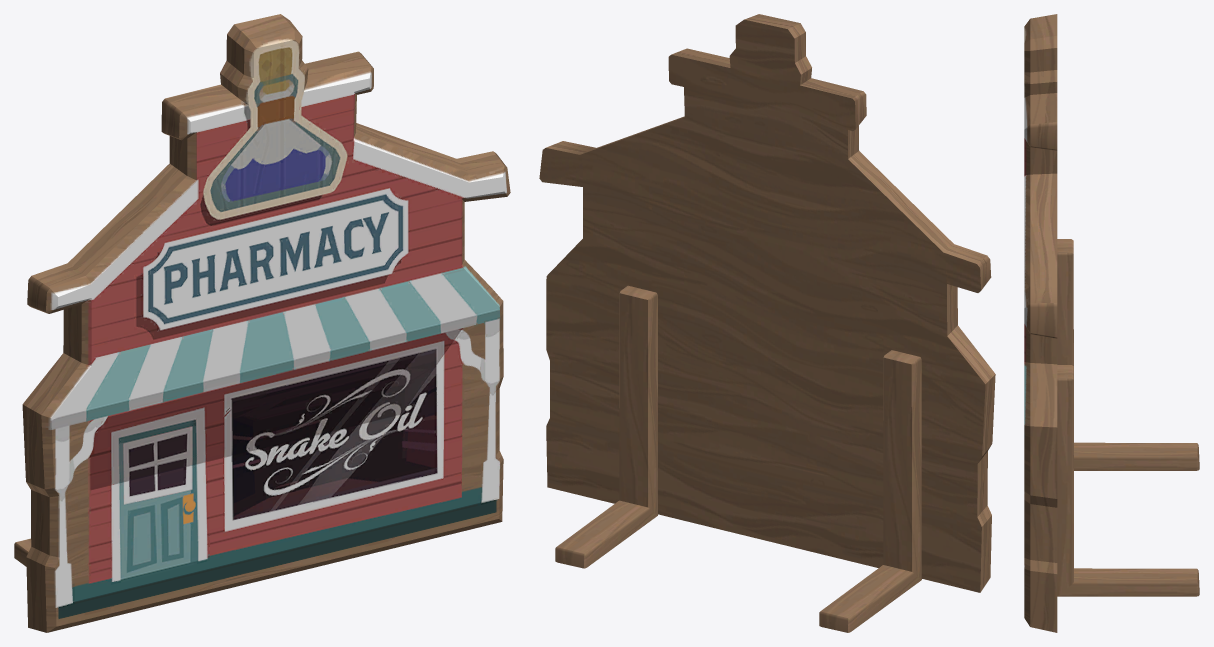
The model's file is pharmacy cutout.glb.
3 renders of one model, left to right at view 1: azimuth 30°, elevation 25°; view 2: azimuth 150°, elevation 25°; view 3: azimuth 270°, elevation 25°, orthographic. The views are drawn at different scales.
Visible parts, largest first — view 1: Standee_Pharmacy_LOD0; view 2: Standee_Pharmacy_LOD0; view 3: Standee_Pharmacy_LOD0.
Part boxes in pixels (bbox=[...]): Standee_Pharmacy_LOD0: bbox=[14, 14, 510, 632]; Standee_Pharmacy_LOD0: bbox=[539, 14, 995, 632]; Standee_Pharmacy_LOD0: bbox=[1024, 14, 1199, 632].
Bounding box in the file's own units: 3.38 × 3.76 × 1.18.
Materials: 1 (1 with a texture image).
